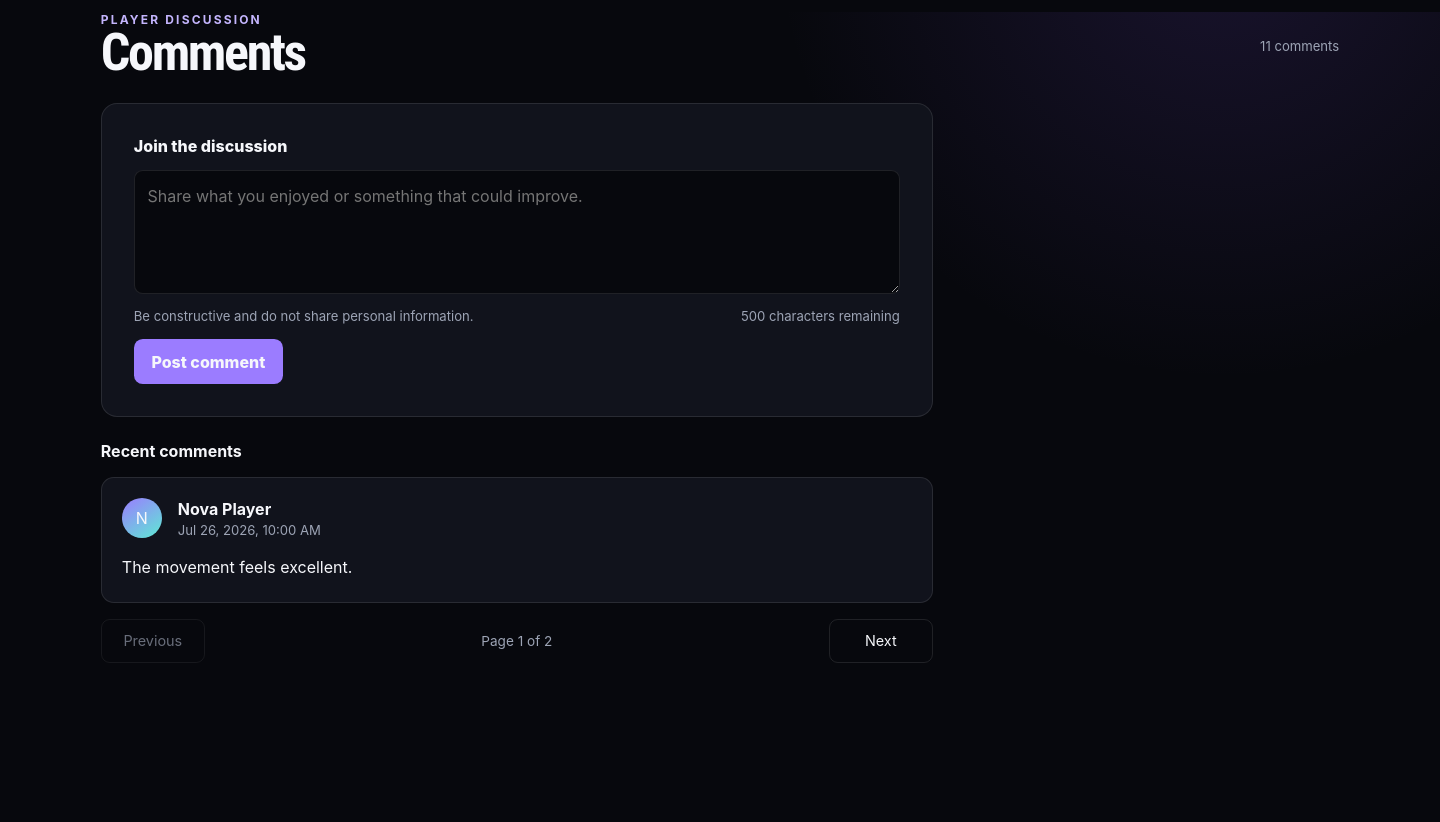
Scenario: GameComments › loads comments in newest-first pages of ten
Check: the text "Page 1 of 2" is shown, box [481,632,552,648]
Click the button "Next": coordinates (881, 640) [829,618,933,662]
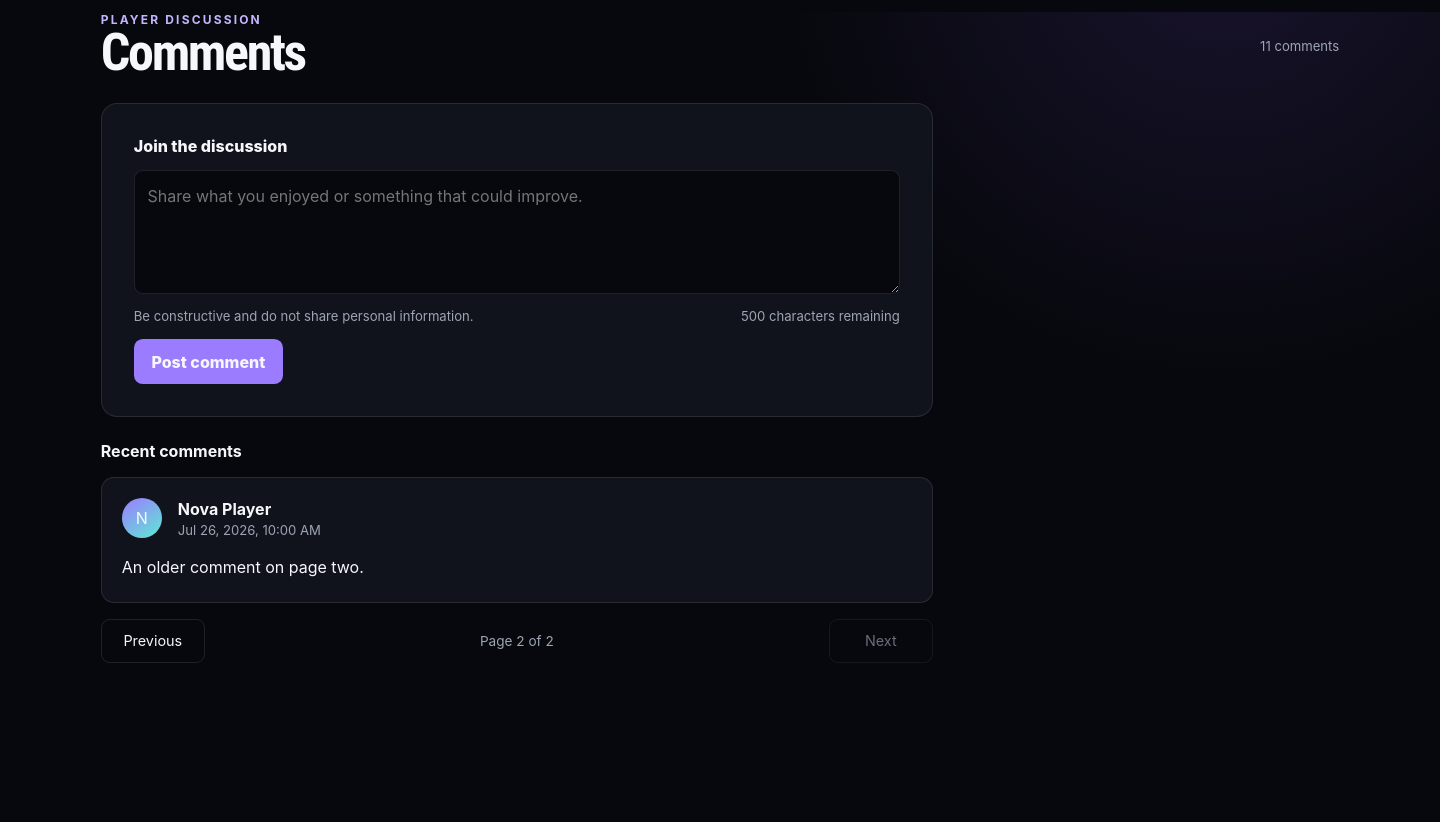
Check: the text "An older comment on page two." is shown, box [122,557,364,577]
Check: the text "Page 2 of 2" is shown, box [480,632,554,648]
